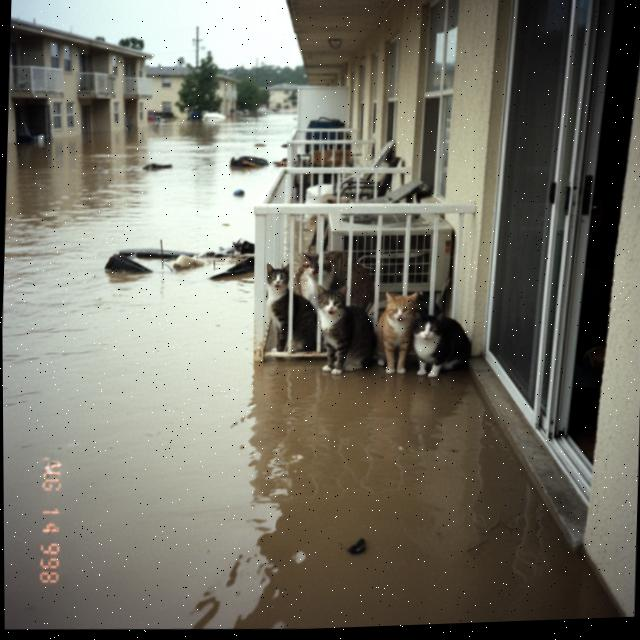cat: (307, 278, 377, 381), (258, 258, 319, 365), (371, 283, 422, 386), (408, 306, 472, 383)
